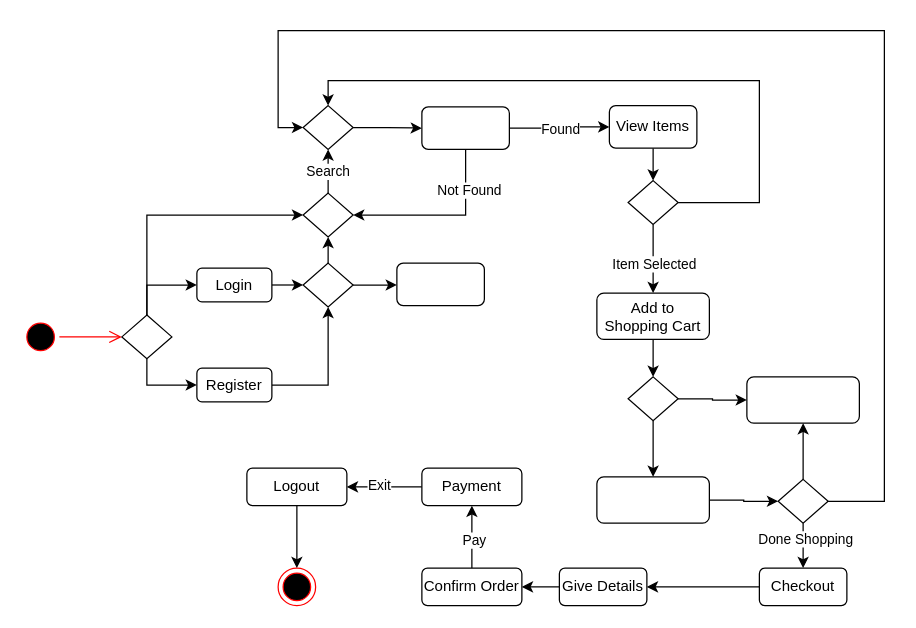
The diagram is 916 pixels wide and 628 high, and some of its shapes have lost their labels. The box of each missing label's shape, as (x1, y1, x2, y2) in pixels:
Search Items: (421, 106, 509, 149)
Update Cart: (746, 376, 859, 423)
View or Edit Profile: (396, 262, 484, 306)
View Shopping Cart: (596, 476, 709, 523)
